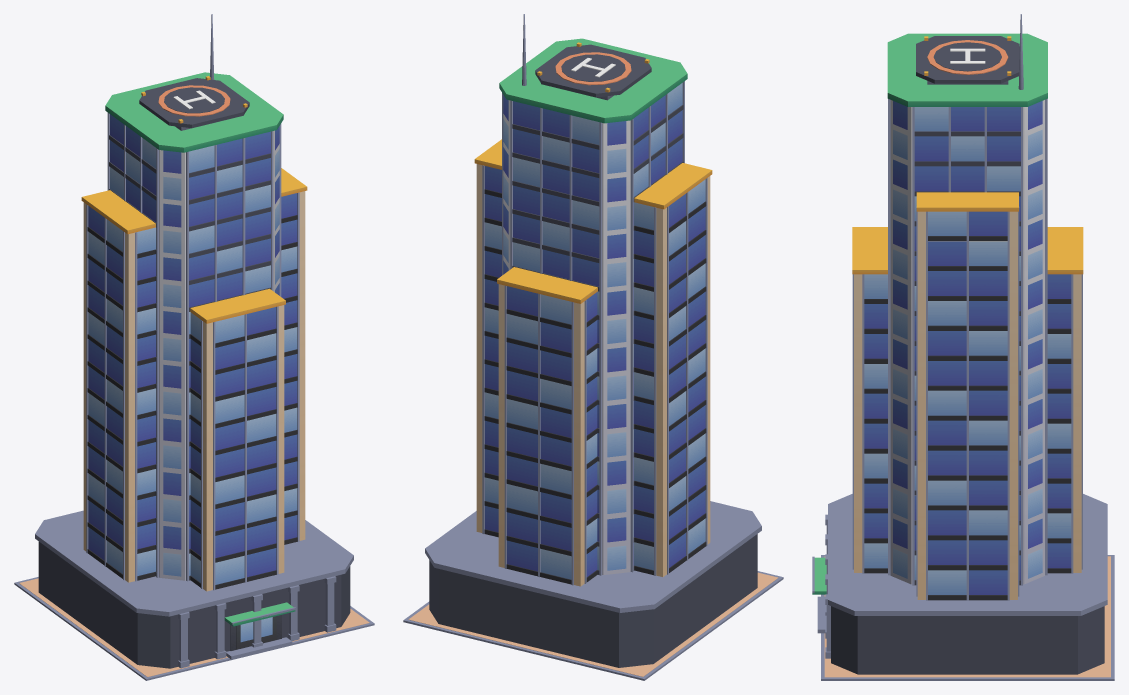
File: off_citadel_tower_2x2.glb
The picture shows the model from 3 angles, left to right: view 1: azimuth 30°, elevation 25°; view 2: azimuth 150°, elevation 25°; view 3: azimuth 270°, elevation 25°; orthographic projection. The views are drawn at different scales.
Visible parts, largest first — view 1: off_citadel_tower_2x2; view 2: off_citadel_tower_2x2; view 3: off_citadel_tower_2x2.
Part boxes in pixels (<box>): off_citadel_tower_2x2: <box>14,14,374,680</box>; off_citadel_tower_2x2: <box>403,14,783,680</box>; off_citadel_tower_2x2: <box>812,14,1114,680</box>.
Size of the model in its own units: 3.67 by 8.64 by 3.78.
Materials: 1 (1 with a texture image).
